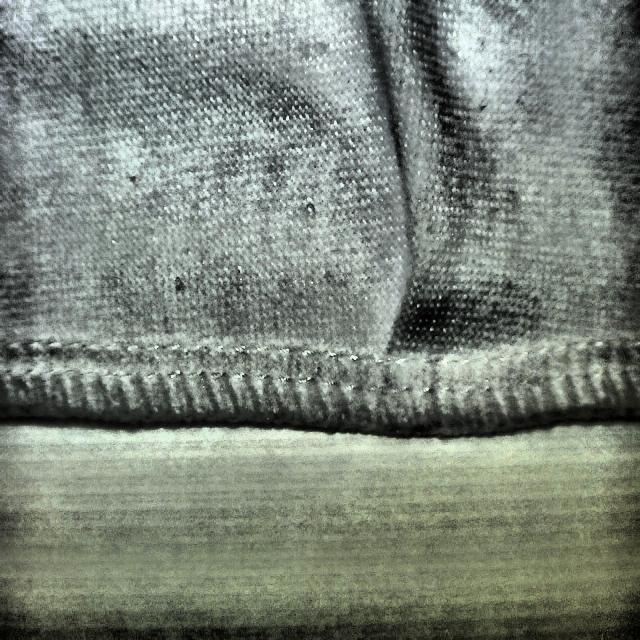seam: (359, 97, 469, 438)
